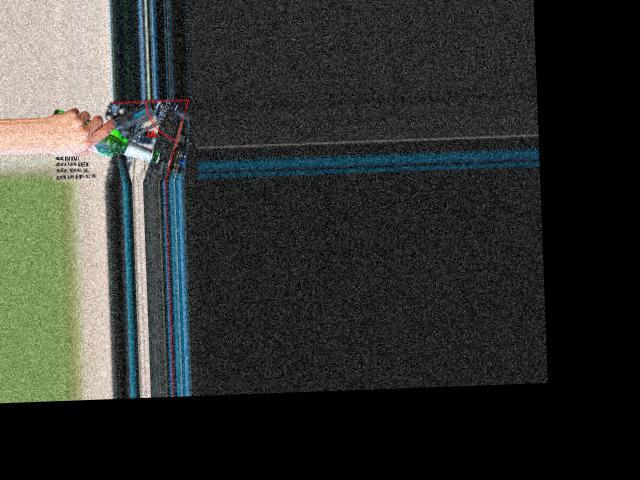beer: (53, 104, 162, 166)
